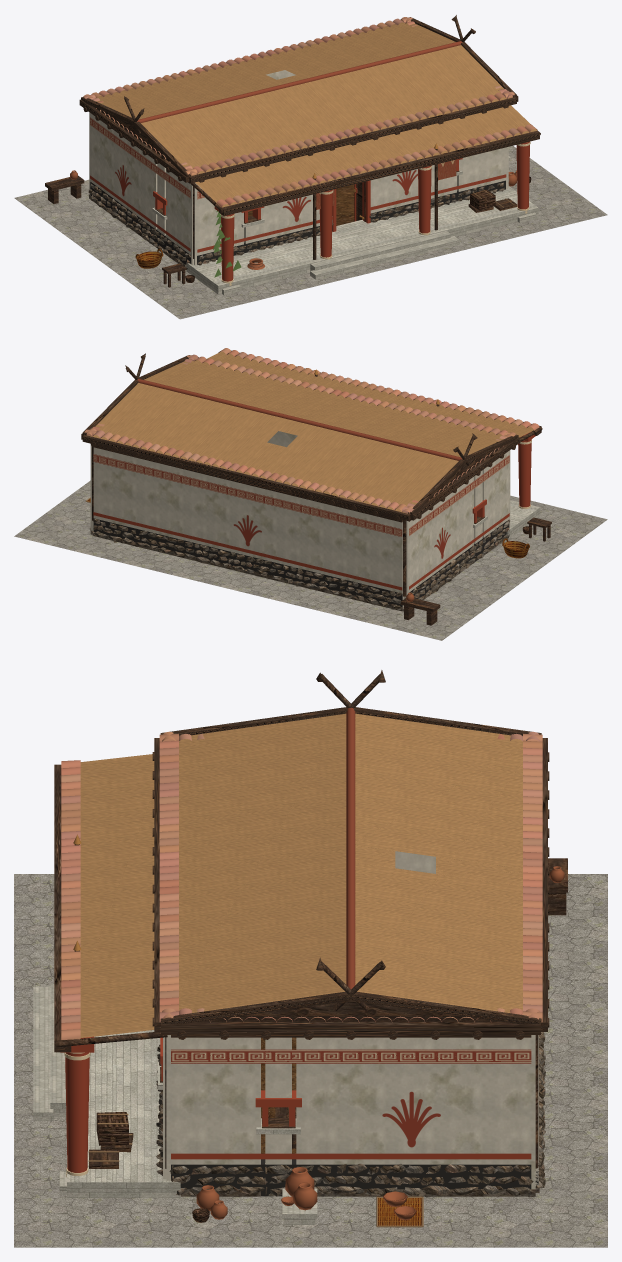
Rendered from hall@1.glb.
3 views of the same model, one above another, from view 1: azimuth 30°, elevation 25°; view 2: azimuth 150°, elevation 25°; view 3: azimuth 270°, elevation 25° (orthographic). The views are drawn at different scales.
Parts seen in each view (by area): view 1: part_18, part_0, part_4, part_7, part_6, part_20, part_5, part_3, part_21, part_19, part_23, part_22 (+3 smaller); view 2: part_18, part_4, part_0, part_7, part_20, part_3, part_23, part_21, part_5, part_19, part_6, part_22 (+1 smaller); view 3: part_18, part_0, part_4, part_7, part_20, part_6, part_3, part_5, part_23, part_21, part_19, part_13 (+3 smaller).
Part boxes in pixels (x1,y1,x2,y2): part_18: (96, 22, 536, 207); part_0: (14, 145, 607, 319); part_4: (89, 70, 508, 265); part_7: (45, 15, 540, 287); part_6: (152, 156, 538, 294); part_20: (83, 17, 537, 207); part_5: (90, 141, 529, 281); part_3: (88, 179, 509, 269); part_21: (90, 180, 505, 264); part_19: (137, 41, 462, 122); part_23: (90, 117, 208, 199); part_22: (115, 165, 417, 221); part_18: (87, 351, 533, 513); part_4: (90, 431, 510, 606); part_0: (14, 480, 607, 640); part_7: (81, 350, 551, 625); part_20: (84, 348, 539, 513); part_3: (90, 519, 509, 611); part_23: (93, 454, 509, 536); part_21: (93, 518, 509, 610); part_5: (93, 431, 535, 590); part_19: (137, 379, 462, 460); part_6: (473, 500, 540, 539); part_22: (234, 515, 450, 558); part_18: (68, 713, 522, 1039); part_0: (14, 874, 607, 1247); part_4: (163, 851, 538, 1189); part_7: (54, 670, 567, 1168); part_20: (61, 731, 542, 1039); part_6: (33, 984, 317, 1224); part_3: (156, 1032, 545, 1197); part_5: (60, 1036, 531, 1172); part_23: (171, 1049, 531, 1063); part_21: (171, 1159, 538, 1196); part_19: (346, 707, 355, 989); part_13: (196, 866, 564, 1220).
Bounding box in the file's own units: 10.89 × 3.42 × 7.32.
Materials: 26 (13 with a texture image).
